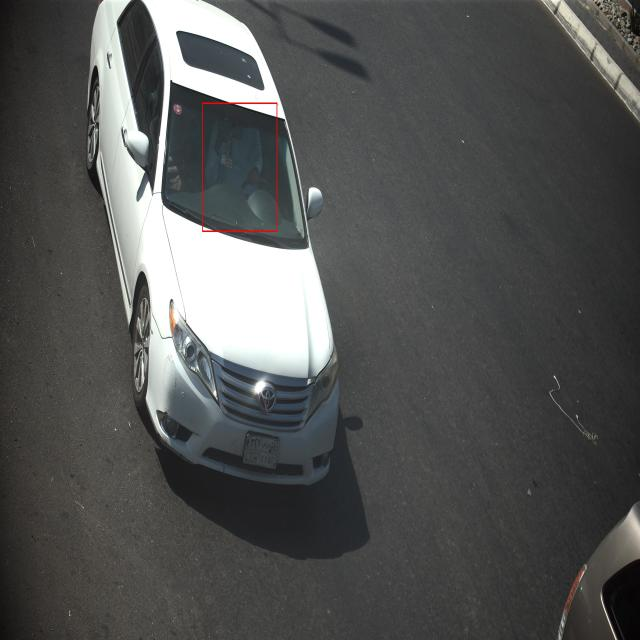windshield: (154, 75, 313, 262)
